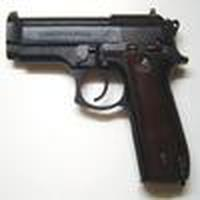gun: (3, 12, 189, 190)
